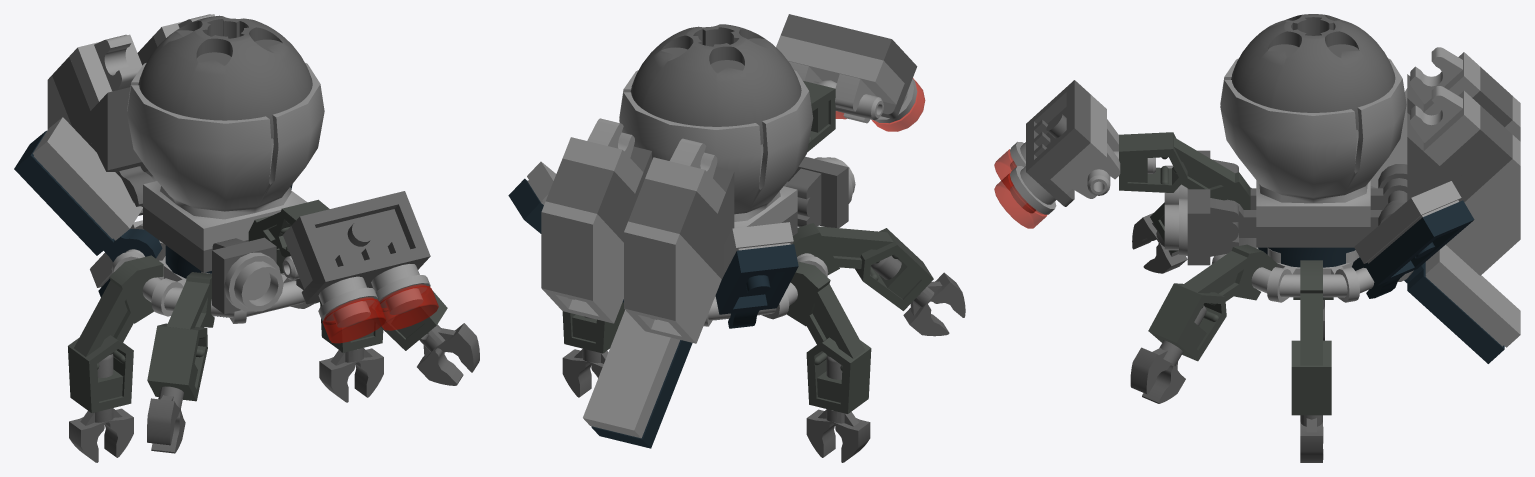
The model's file is mm-03-binome.dae.
3 renders of one model, left to right at view 1: azimuth 30°, elevation 25°; view 2: azimuth 150°, elevation 25°; view 3: azimuth 270°, elevation 25°, orthographic. The views are drawn at different scales.
Size of the model in its own units: 126 by 184 by 144.
